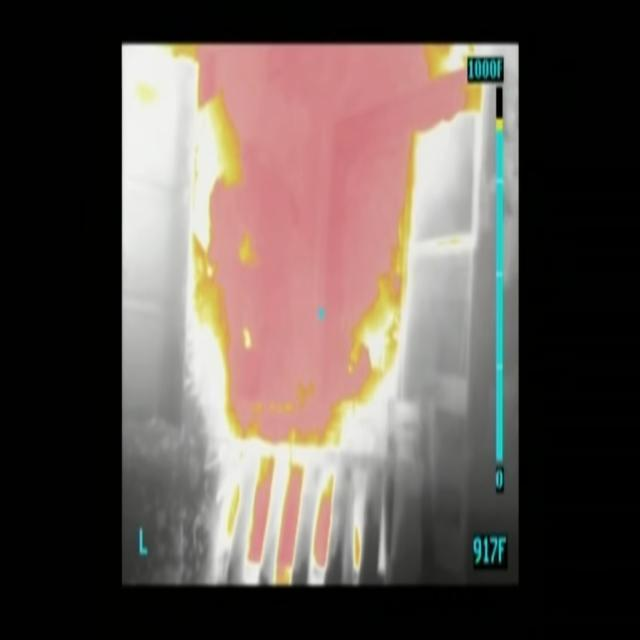fire: (175, 46, 492, 449)
